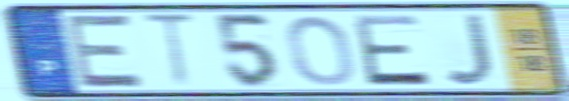5: (212, 10, 281, 91)
E: (64, 12, 147, 90), (349, 12, 434, 88)
J: (441, 11, 497, 88)
O: (283, 13, 358, 88)
T: (138, 11, 200, 92)
